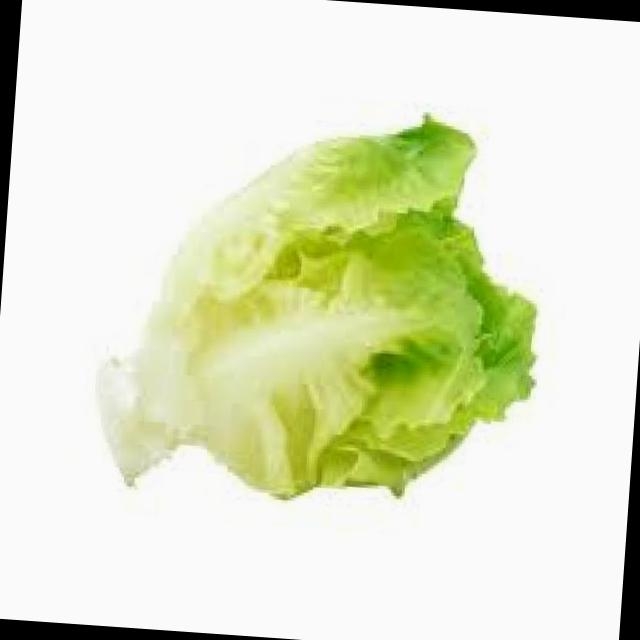Lettuce-Ready-to-Harvest: (112, 117, 534, 496)
